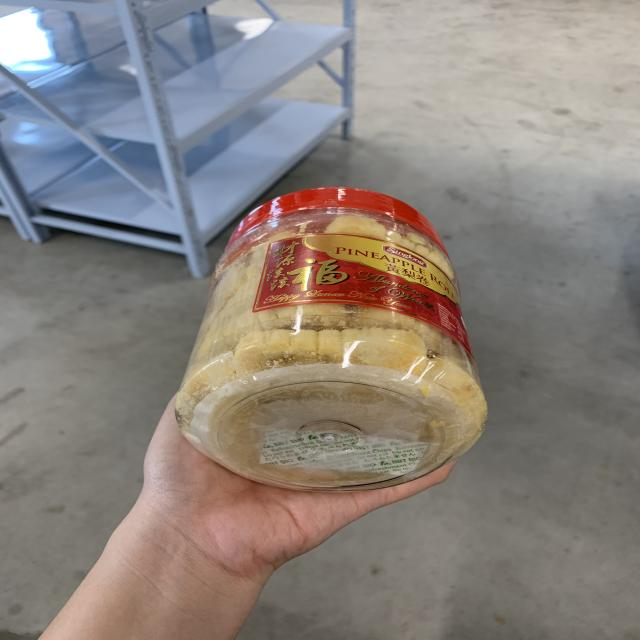object_name: (201, 210, 470, 467)
